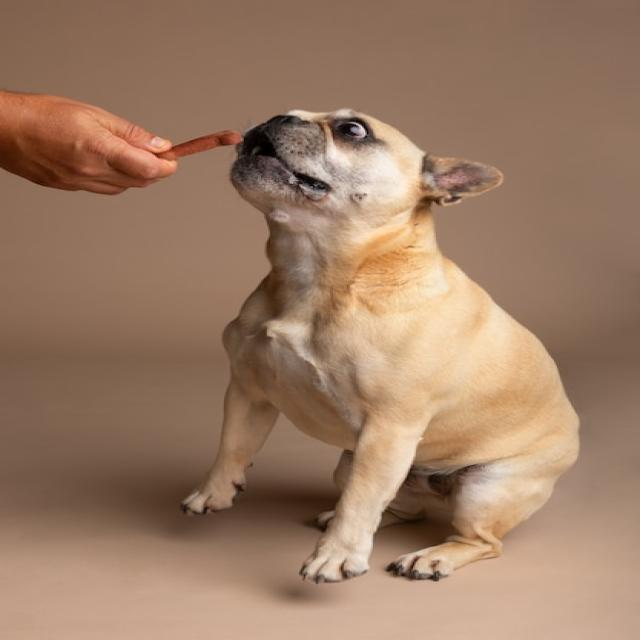Dog: (186, 110, 579, 583)
